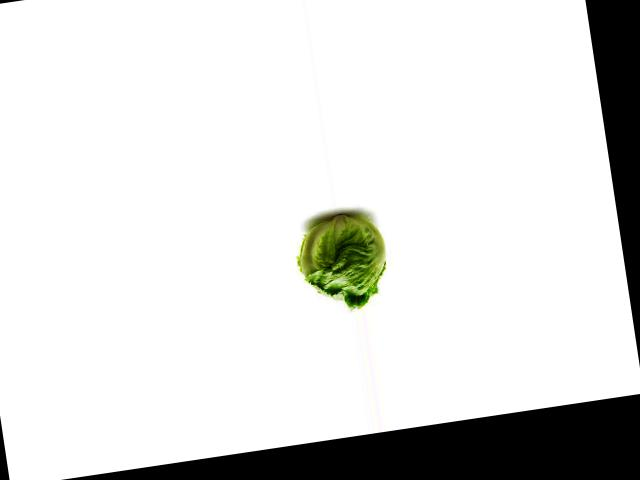lettuce: (283, 204, 396, 317)
